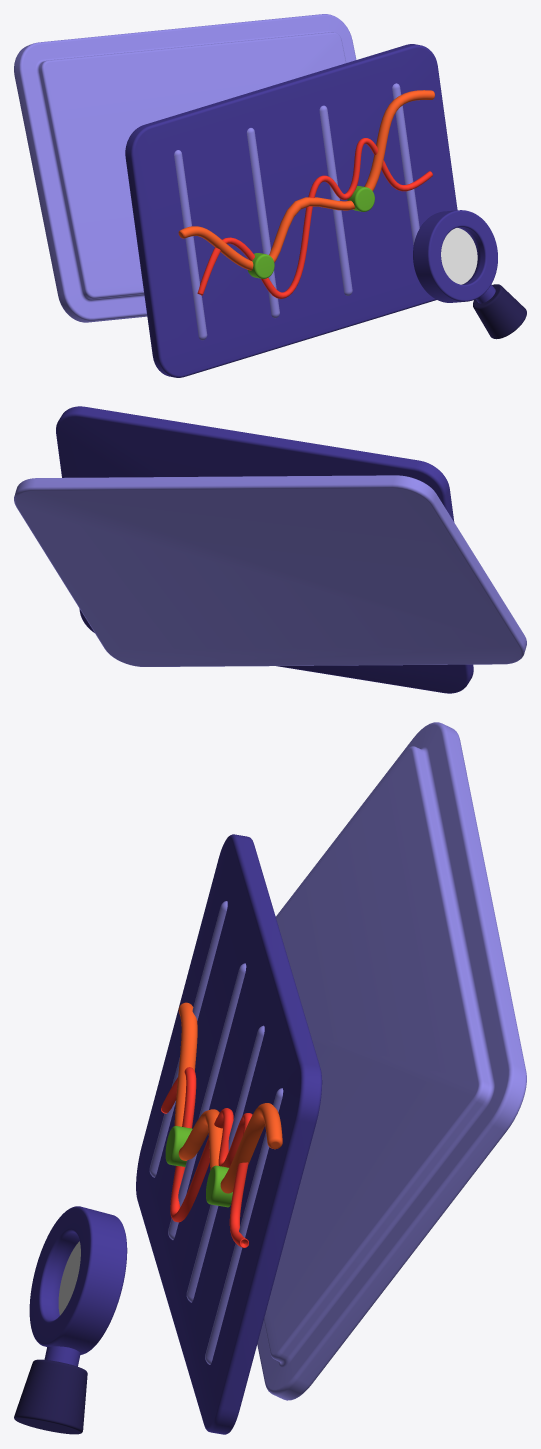
File: Market Chart.fbx
3 renders of one model, top to bottom at view 1: azimuth 30°, elevation 25°; view 2: azimuth 150°, elevation 25°; view 3: azimuth 270°, elevation 25°, orthographic. The views are drawn at different scales.
Visible parts, largest first — view 1: Plane.018, Plane.019, Cylinder.063, Cylinder.060, Vert.001, Vert.010, Cylinder.064, Cylinder.061, Cylinder.062; view 2: Plane.019, Plane.018; view 3: Plane.019, Plane.018, Cylinder.063, Cylinder.060, Vert.001, Cylinder.064, Vert.010.
Part boxes in pixels (x1,y1,x2,y2): Plane.018: [125, 44, 457, 377]; Plane.019: [14, 14, 356, 322]; Cylinder.063: [413, 210, 497, 302]; Cylinder.060: [174, 83, 419, 340]; Vert.001: [178, 90, 434, 270]; Vert.010: [197, 138, 432, 298]; Cylinder.064: [473, 284, 526, 339]; Cylinder.061: [247, 253, 274, 278]; Cylinder.062: [347, 186, 374, 211]; Plane.019: [14, 475, 526, 666]; Plane.018: [56, 406, 473, 693]; Plane.019: [257, 722, 526, 1400]; Plane.018: [136, 834, 322, 1434]; Cylinder.063: [29, 1206, 127, 1354]; Cylinder.060: [149, 901, 283, 1364]; Vert.001: [174, 1002, 282, 1193]; Cylinder.064: [14, 1359, 87, 1434]; Vert.010: [161, 1067, 252, 1247].
Bounding box in the file's own units: 404 × 269 × 279.
